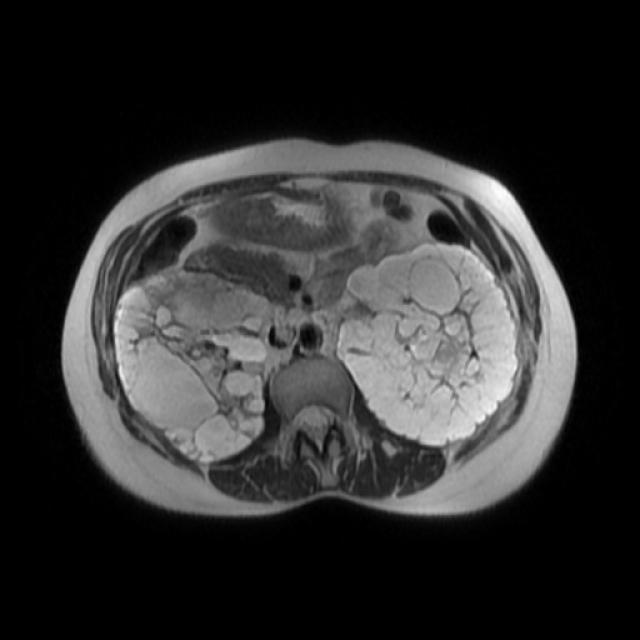sag: (112, 268, 288, 464)
sol: (336, 241, 520, 451)
